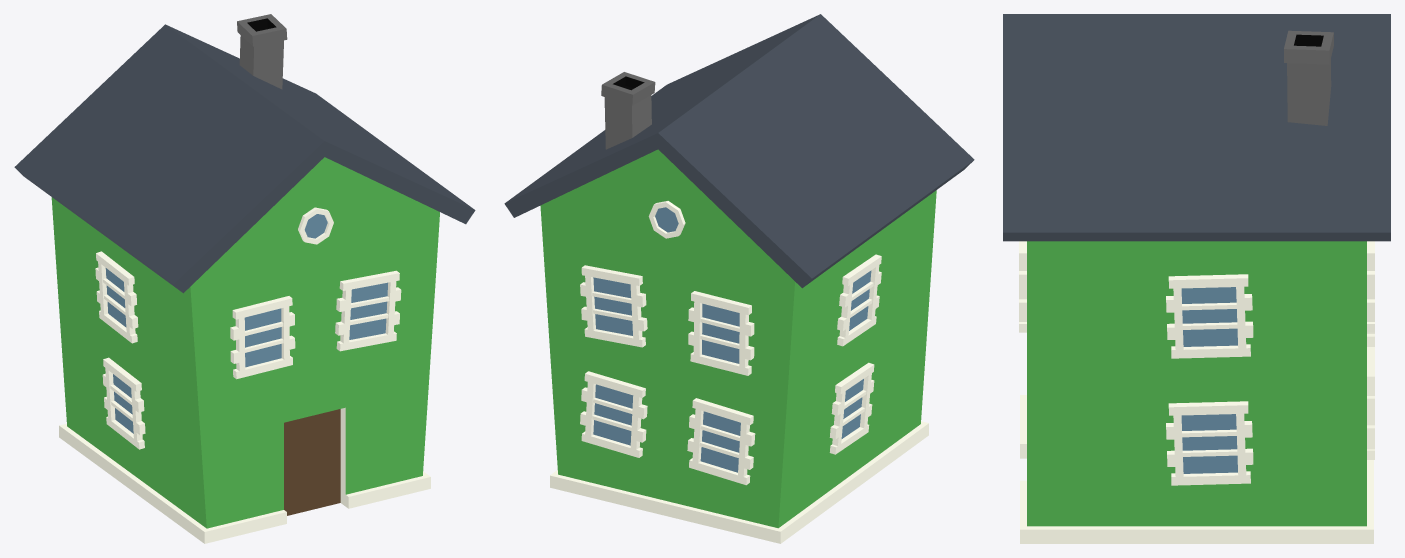
Rendered from house3.gltf.
3 renders of one model, left to right at view 1: azimuth 30°, elevation 25°; view 2: azimuth 150°, elevation 25°; view 3: azimuth 270°, elevation 25°, orthographic. The views are drawn at different scales.
Visible parts, largest first — view 1: h2.002; view 2: h2.002; view 3: h2.002.
Boxes of the visible parts, bbox=[...] form: h2.002: bbox=[14, 14, 475, 543]; h2.002: bbox=[504, 14, 974, 543]; h2.002: bbox=[1003, 14, 1390, 543].
Bounding box in the file's own units: 7.12 × 8.78 × 6.51.
1 material, 1 textured.
